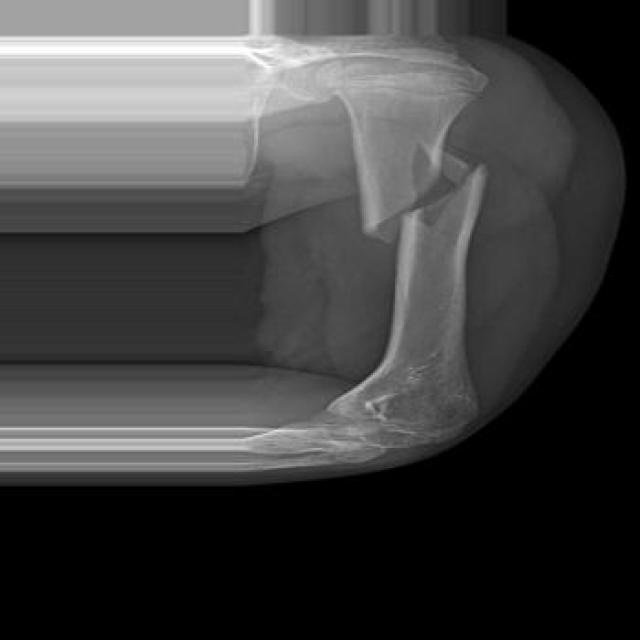Fracture: (353, 139, 495, 243)
